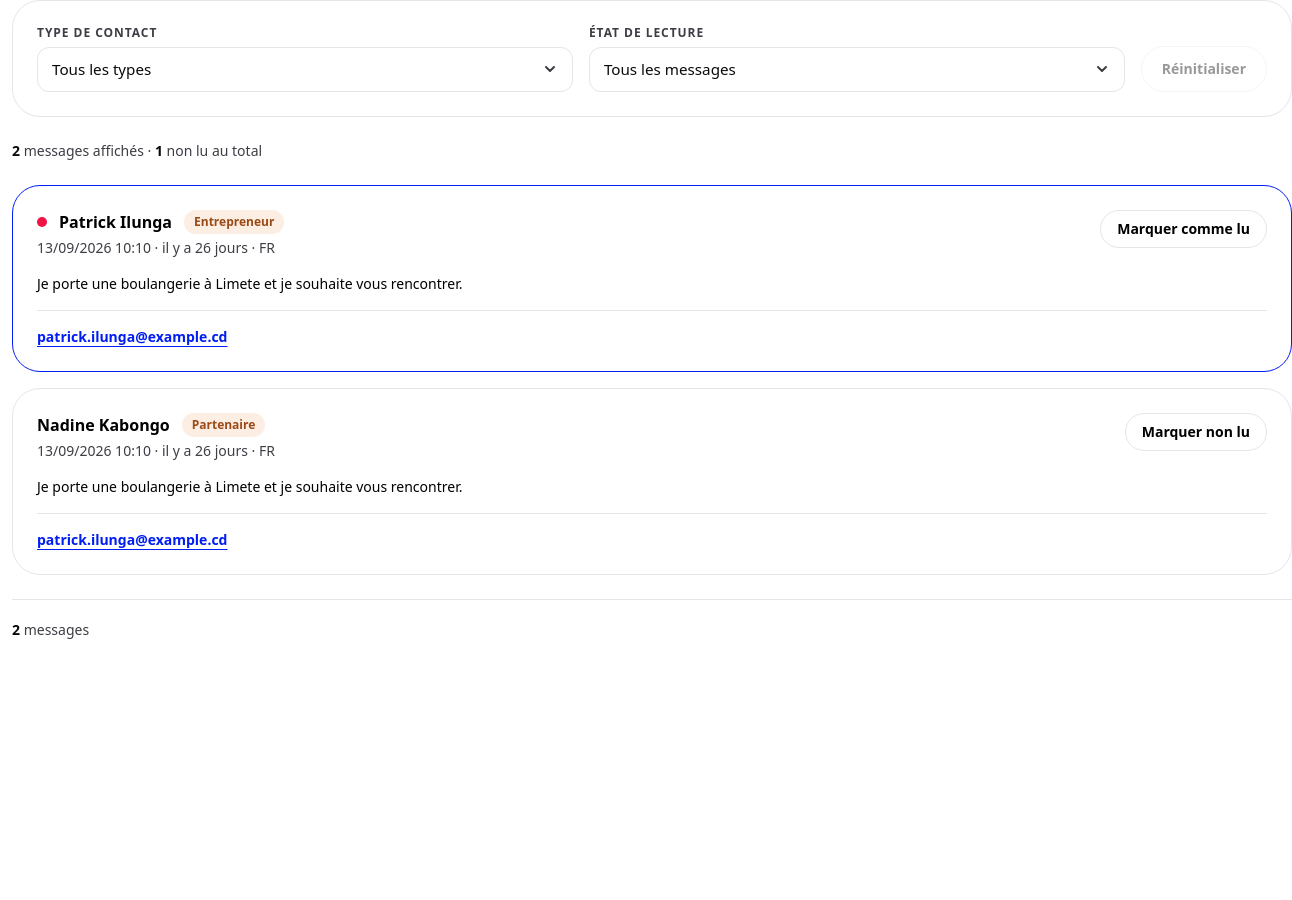
Test case: MessagesBrowser › revient en arrière et prévient quand l’API refuse
The image size is (1292, 900).
What coordinates should you click on to do the following:
click the button "Marquer comme lu"
I would click on:
 (1184, 229)
Its box is [1100,210,1267,248].
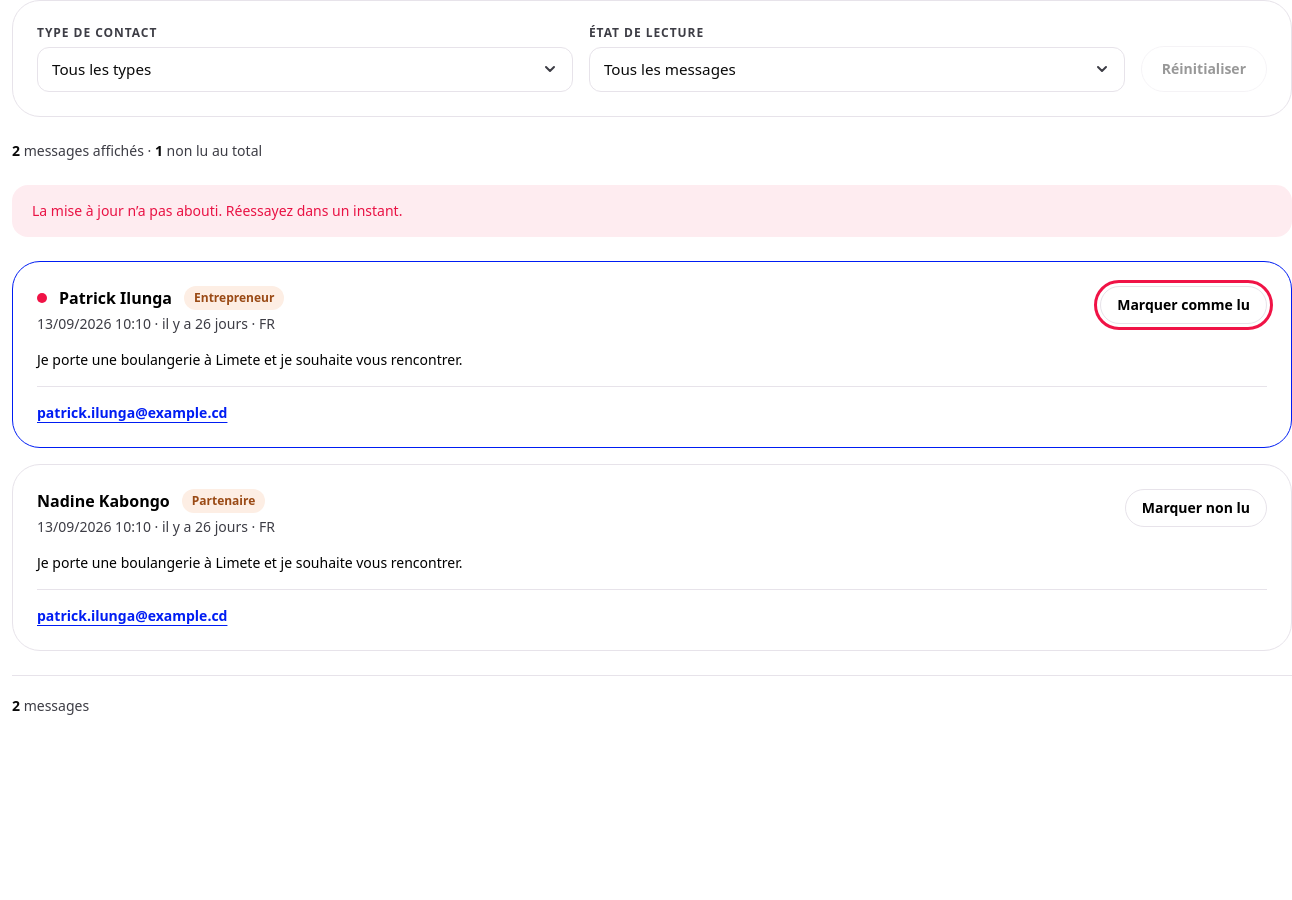
Check: the number of buttons "Marquer comme lu" is 1, box [1100,286,1267,324]
Check: the message shows "n’a pas abouti", box [32,201,402,220]
